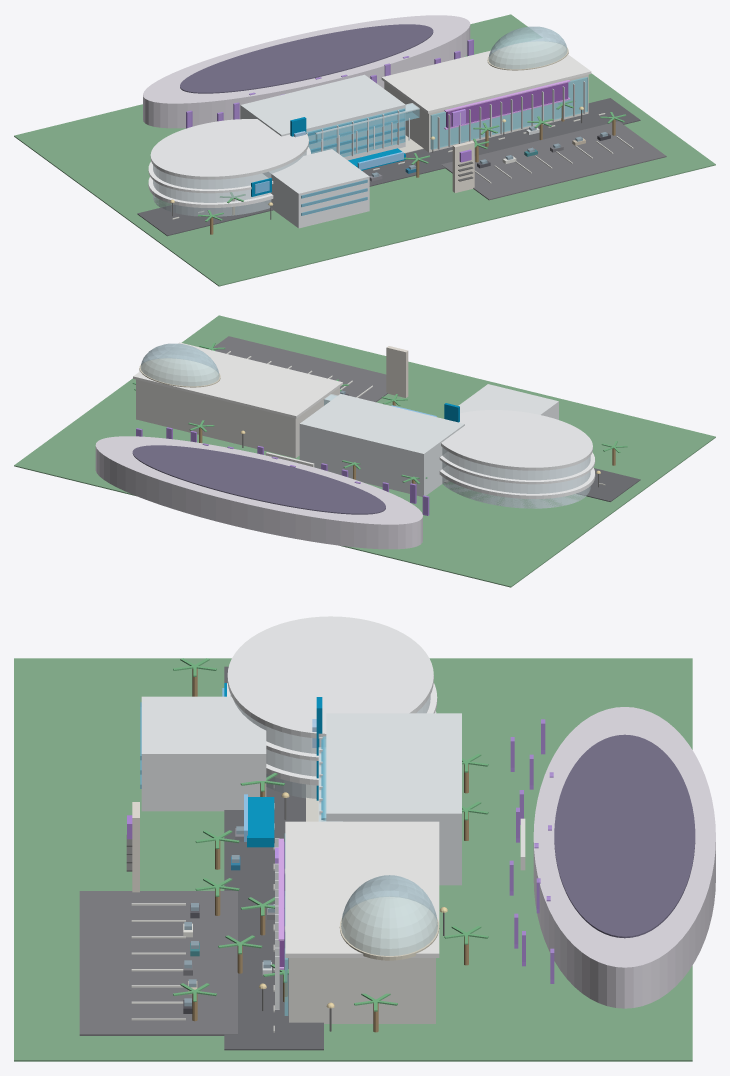
File: university-campus.glb
3 renders of one model, top to bottom at view 1: azimuth 30°, elevation 25°; view 2: azimuth 150°, elevation 25°; view 3: azimuth 270°, elevation 25°, orthographic. The views are drawn at different scales.
Parts seen in each view (by area): view 1: campus_base_grass, hazza_stadium_oval_base, hazza_stadium_dark_inside, parking_area, round_hospital_roof_white, main_hospital_body, university_roof_slab, main_road, round_annex_block, university_hall_body, round_hospital_glass_body, university_glass_facade (+8 smaller); view 2: campus_base_grass, hazza_stadium_oval_base, main_hospital_body, hazza_stadium_dark_inside, round_hospital_roof_white, university_hall_body, university_roof_slab, round_hospital_glass_body, parking_area, university_rooftop_glass_dome, round_hospital_lower_ring, round_hospital_mid_ring (+4 smaller); view 3: campus_base_grass, hazza_stadium_dark_inside, hazza_stadium_oval_base, parking_area, round_hospital_roof_white, main_hospital_body, university_roof_slab, round_annex_block, main_road, university_hall_body, university_rooftop_glass_dome, university_dome_base_ring (+5 smaller).
Part boxes in pixels (x1,y1,x2,y2): campus_base_grass: [14, 14, 715, 286]; hazza_stadium_oval_base: [143, 15, 470, 128]; hazza_stadium_dark_inside: [180, 24, 433, 93]; parking_area: [441, 121, 666, 200]; round_hospital_roof_white: [150, 119, 308, 179]; main_hospital_body: [240, 74, 405, 160]; university_roof_slab: [381, 38, 591, 113]; main_road: [137, 98, 640, 236]; round_annex_block: [263, 149, 369, 228]; university_hall_body: [384, 74, 588, 152]; round_hospital_glass_body: [153, 151, 306, 216]; university_glass_facade: [430, 77, 587, 149]; campus_base_grass: [14, 315, 715, 587]; hazza_stadium_oval_base: [95, 436, 422, 549]; main_hospital_body: [299, 393, 464, 496]; hazza_stadium_dark_inside: [132, 445, 385, 514]; round_hospital_roof_white: [441, 410, 592, 470]; university_hall_body: [136, 379, 339, 458]; university_roof_slab: [133, 342, 342, 418]; round_hospital_glass_body: [442, 447, 590, 508]; parking_area: [213, 336, 387, 402]; university_rooftop_glass_dome: [140, 343, 219, 386]; round_hospital_lower_ring: [439, 465, 595, 498]; round_hospital_mid_ring: [439, 452, 595, 484]; campus_base_grass: [14, 658, 692, 1061]; hazza_stadium_dark_inside: [554, 734, 695, 938]; hazza_stadium_oval_base: [533, 707, 715, 1008]; parking_area: [79, 891, 237, 1035]; round_hospital_roof_white: [227, 616, 433, 738]; main_hospital_body: [326, 713, 461, 885]; university_roof_slab: [285, 821, 439, 957]; round_annex_block: [141, 696, 266, 811]; main_road: [224, 666, 323, 1050]; university_hall_body: [289, 958, 435, 1023]; university_rooftop_glass_dome: [341, 875, 437, 955]; university_dome_base_ring: [339, 896, 439, 960].
Size of the model in its own units: 42 by 5.71 by 31.03.
